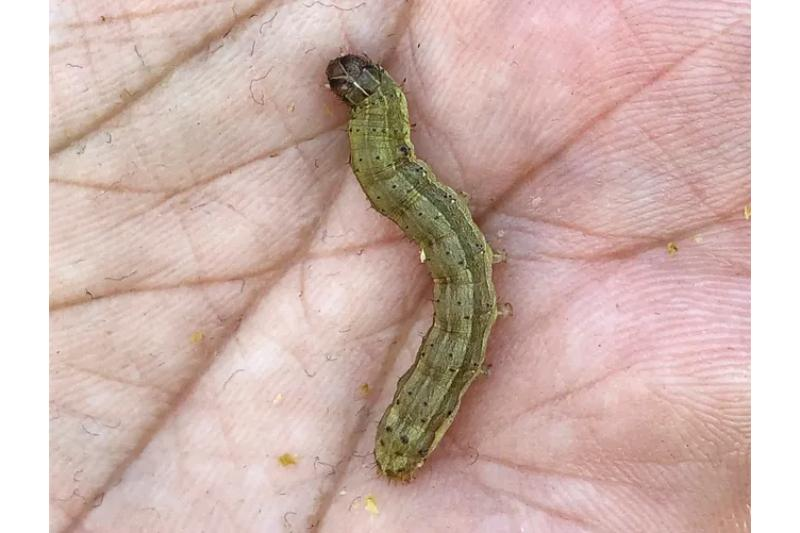fall-armyworm: (326, 56, 504, 487)
